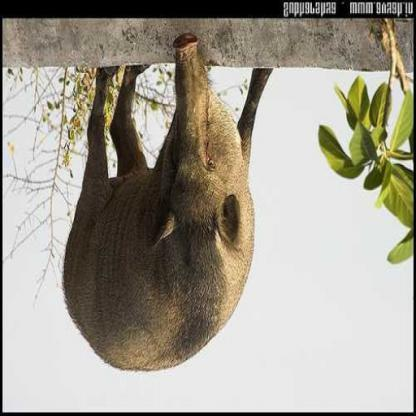boar: (25, 1, 253, 400)
